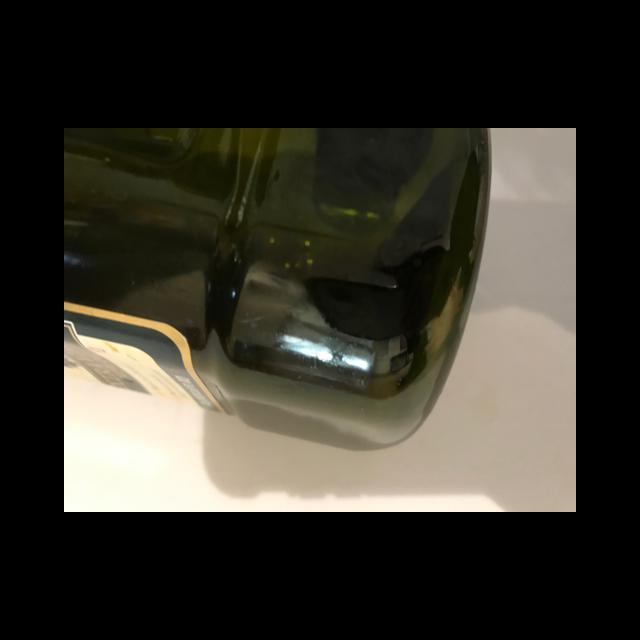plastic: (64, 128, 490, 452)
